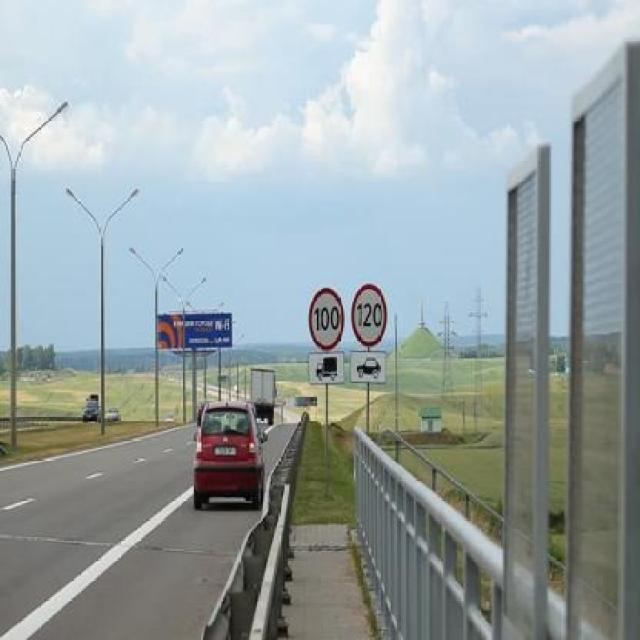forb_speed_over_100: (310, 287, 345, 348)
forb_speed_over_120: (351, 281, 389, 348)
